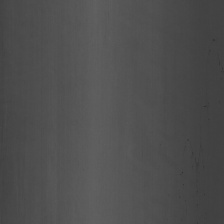inclusion: (210, 30, 223, 87), (191, 144, 204, 186), (200, 103, 210, 110), (180, 167, 185, 175), (185, 135, 190, 142), (182, 180, 185, 187)
